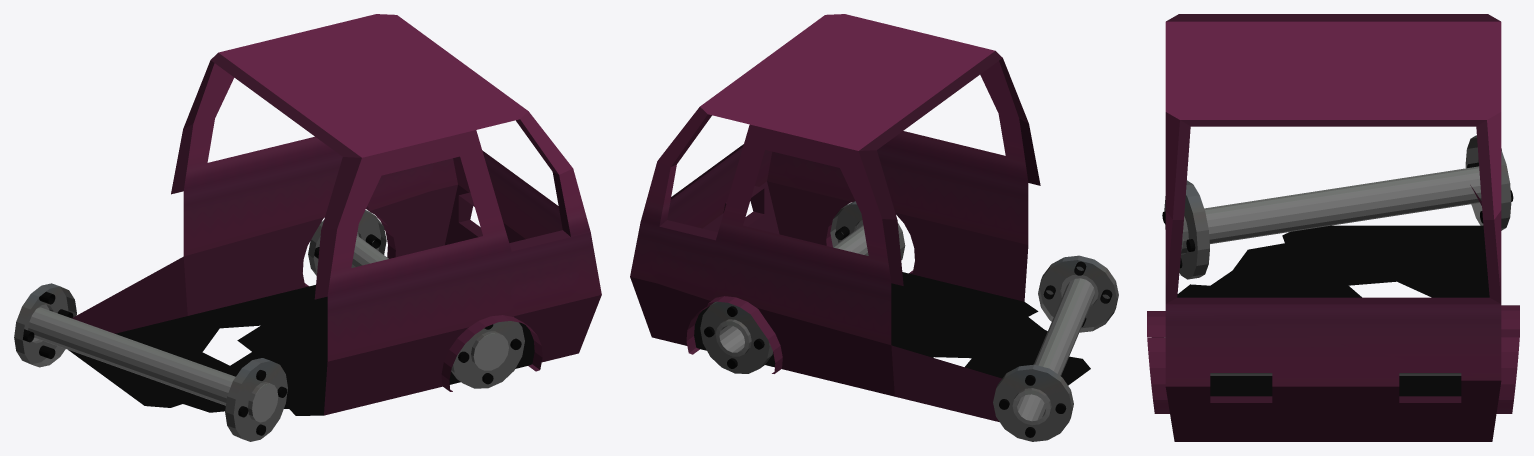
The model's file is Carro2.glb.
3 renders of one model, left to right at view 1: azimuth 30°, elevation 25°; view 2: azimuth 150°, elevation 25°; view 3: azimuth 270°, elevation 25°, orthographic. The views are drawn at different scales.
Visible parts, largest first — view 1: Carro2; view 2: Carro2; view 3: Carro2.
Boxes of the visible parts, x1,y1,x2,y2 form: Carro2: (14, 14, 601, 441); Carro2: (630, 14, 1118, 441); Carro2: (1147, 14, 1519, 441).
Size of the model in its own units: 3.65 by 2.02 by 2.22.
Materials: 1 (1 with a texture image).
